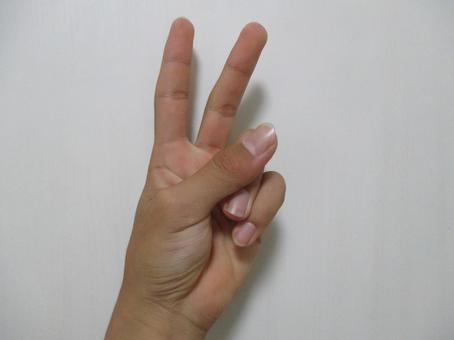scissors: (119, 10, 295, 322)
